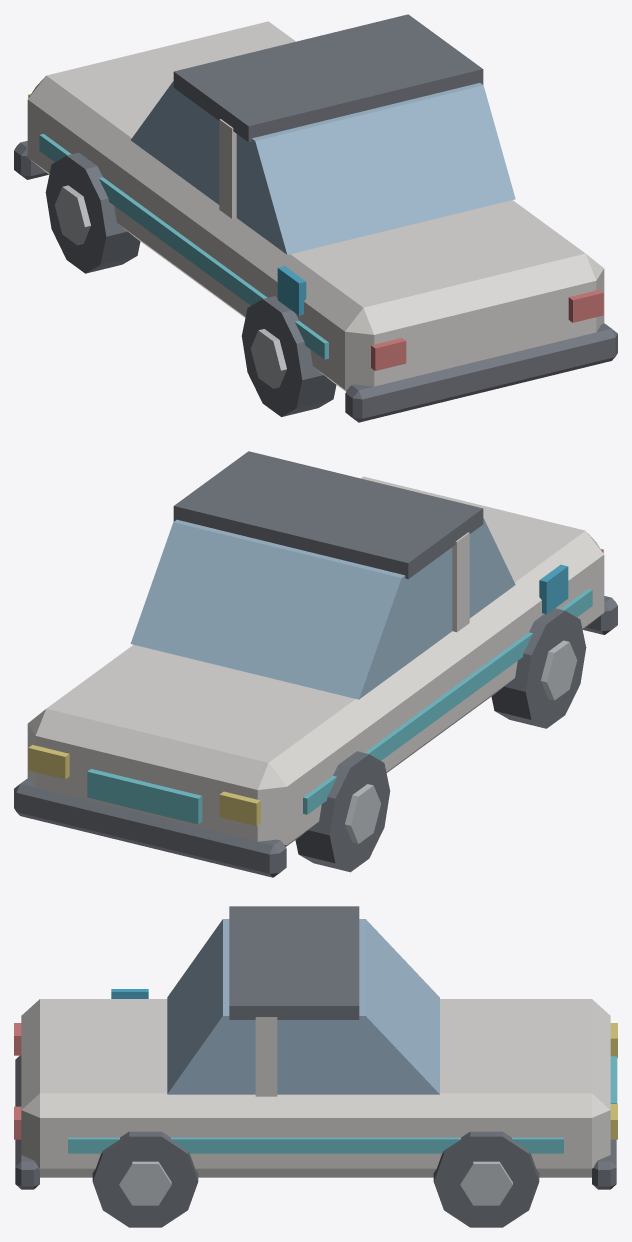
File: veiculos__carro_eletrico.glb
3 renders of one model, top to bottom at view 1: azimuth 30°, elevation 25°; view 2: azimuth 150°, elevation 25°; view 3: azimuth 270°, elevation 25°, orthographic. The views are drawn at different scales.
Parts seen in each view (by area): view 1: veiculos__carro_eletrico; view 2: veiculos__carro_eletrico; view 3: veiculos__carro_eletrico.
Boxes of the visible parts, bbox=[...] form: veiculos__carro_eletrico: bbox=[14, 14, 617, 422]; veiculos__carro_eletrico: bbox=[14, 451, 617, 877]; veiculos__carro_eletrico: bbox=[14, 906, 617, 1227].
Bounding box in the file's own units: 0.48 × 0.3758 × 0.974.
